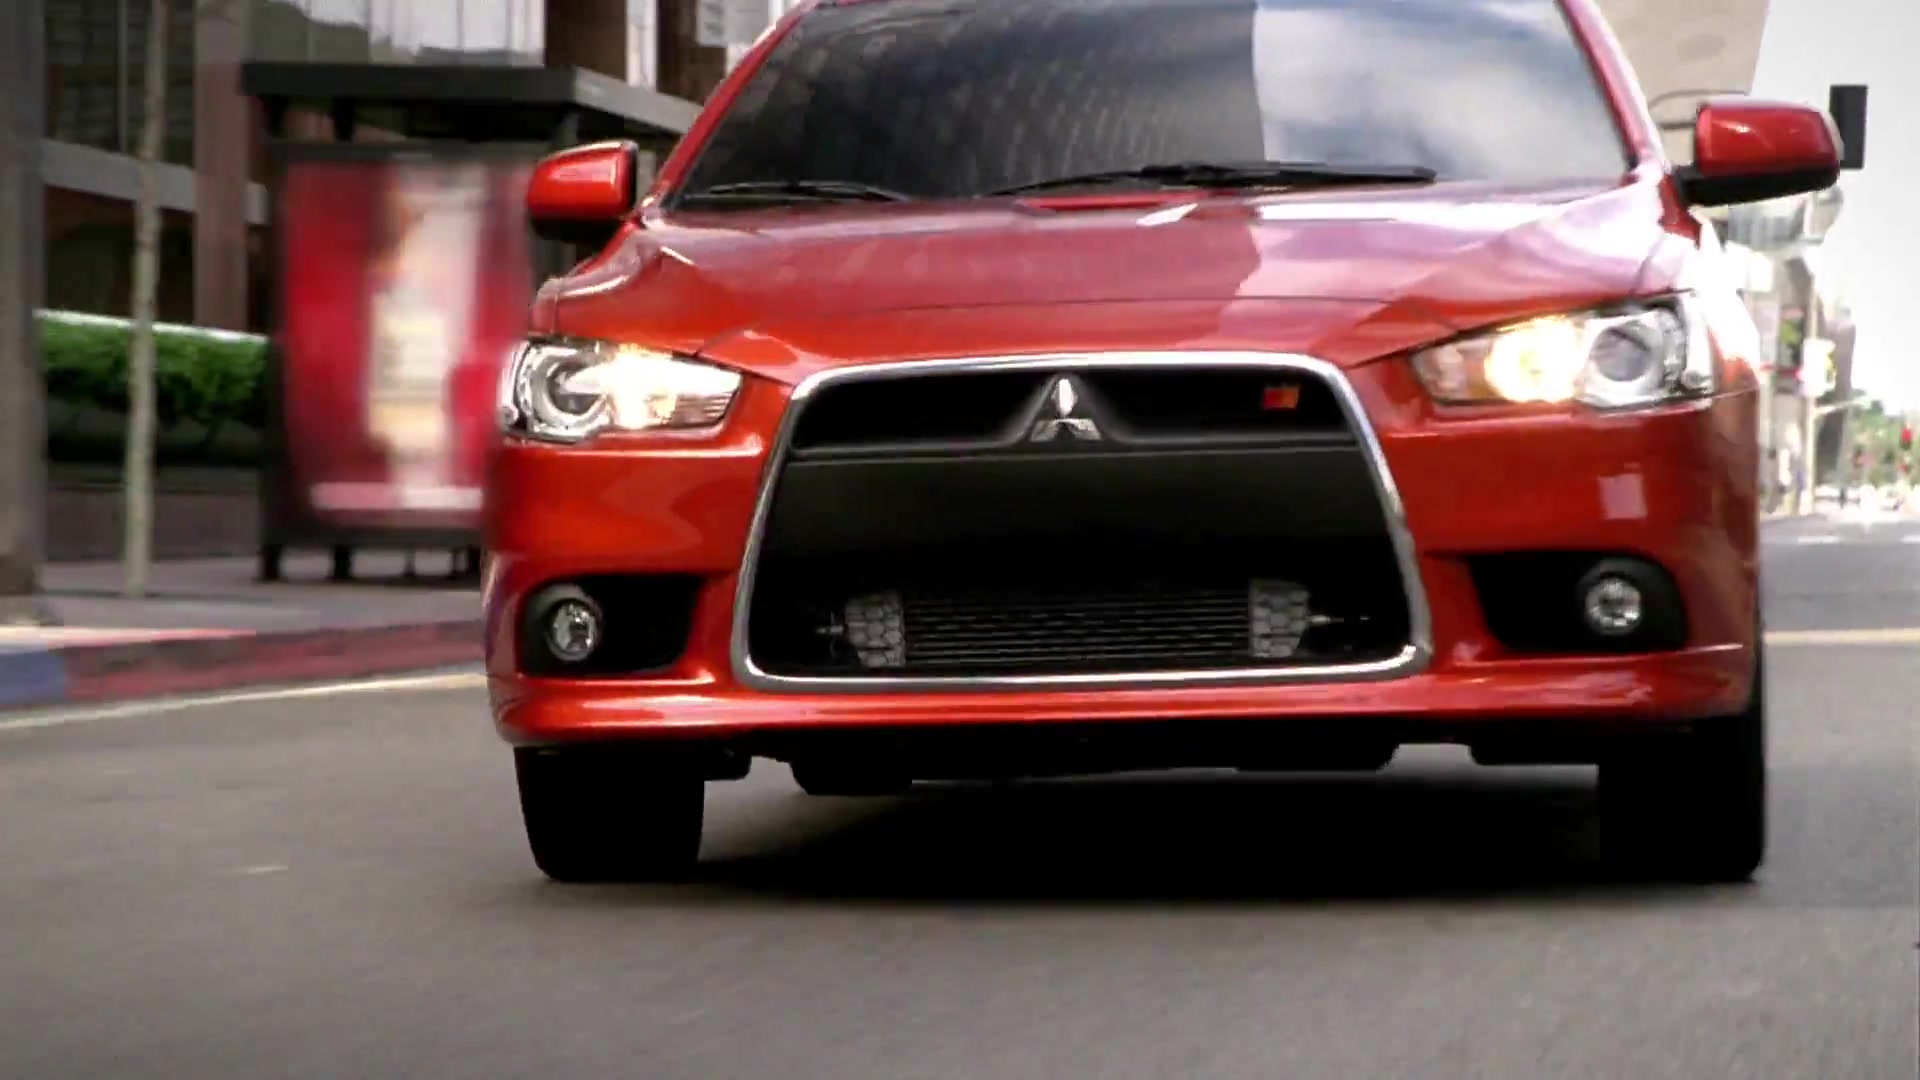car: (463, 7, 1850, 887)
